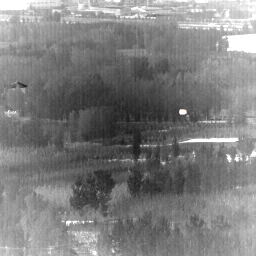Target: (177, 108, 188, 117)
